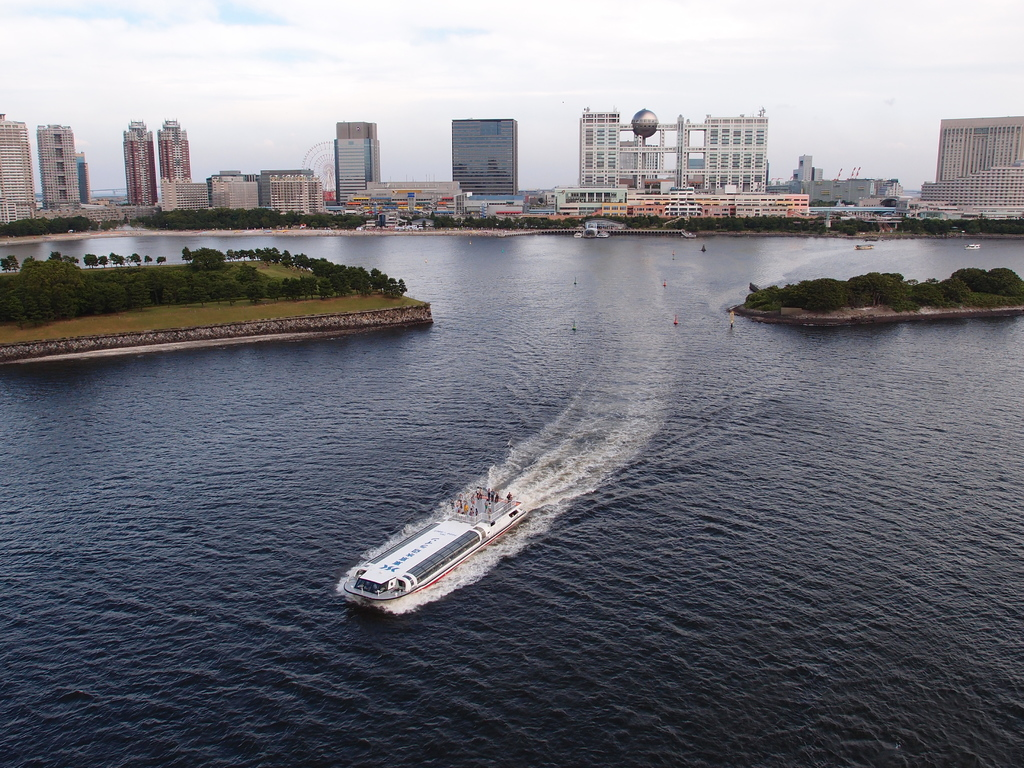Tree: (107, 259, 261, 308), (132, 204, 373, 232), (0, 257, 97, 319), (280, 252, 406, 295), (3, 199, 99, 226), (951, 262, 1023, 298), (853, 262, 906, 308), (908, 275, 972, 305), (783, 283, 851, 303), (185, 240, 227, 263), (231, 243, 280, 261), (0, 247, 16, 270), (120, 252, 142, 266), (110, 257, 124, 275), (86, 255, 98, 266), (97, 253, 98, 266)
